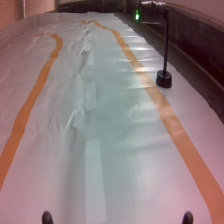green: (132, 1, 174, 92)
